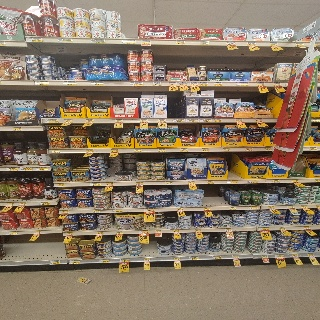All PRICE TAGS: (27, 37, 42, 41), (58, 38, 73, 42), (79, 277, 89, 283), (91, 39, 105, 43), (35, 81, 49, 85), (90, 81, 104, 85), (63, 81, 76, 85), (131, 81, 143, 85), (296, 42, 305, 47), (121, 40, 136, 43), (174, 118, 185, 122), (187, 118, 198, 122), (200, 118, 211, 122), (144, 208, 155, 212), (36, 166, 47, 170), (44, 119, 58, 122), (200, 41, 210, 45), (238, 82, 248, 86), (91, 182, 101, 186), (99, 259, 109, 263), (7, 231, 17, 235), (50, 260, 60, 264), (275, 254, 284, 258), (142, 40, 151, 44), (227, 41, 236, 45), (214, 82, 223, 86), (213, 118, 222, 122), (48, 150, 60, 153), (157, 148, 166, 152), (64, 231, 73, 235), (120, 258, 129, 262), (20, 167, 32, 170), (6, 168, 18, 171), (248, 180, 259, 183), (39, 202, 50, 205), (153, 82, 161, 86), (169, 82, 177, 86), (257, 82, 265, 86), (273, 82, 281, 86), (235, 118, 243, 122), (255, 118, 263, 122), (134, 148, 142, 152), (222, 147, 230, 151), (245, 147, 253, 151), (136, 181, 144, 185), (143, 257, 151, 261), (190, 256, 198, 260), (213, 255, 221, 259), (13, 127, 21, 131), (175, 41, 185, 44), (247, 42, 257, 45), (198, 82, 208, 85), (55, 183, 65, 186), (227, 180, 237, 183), (112, 209, 122, 212), (70, 260, 80, 263), (259, 227, 269, 230), (0, 41, 6, 46), (310, 147, 317, 151), (165, 181, 172, 185), (173, 229, 180, 233), (173, 256, 180, 260), (273, 179, 280, 183), (268, 205, 275, 209), (7, 202, 14, 206), (270, 42, 279, 45), (158, 119, 167, 122), (85, 149, 94, 152), (201, 148, 210, 151), (248, 206, 257, 209), (140, 230, 149, 233), (292, 253, 298, 257), (179, 82, 187, 85), (64, 119, 72, 122), (86, 119, 94, 122), (115, 119, 123, 122), (140, 119, 148, 122), (110, 149, 118, 152), (180, 148, 188, 151), (60, 209, 68, 212), (176, 207, 184, 210), (189, 82, 197, 85), (106, 182, 114, 185), (261, 255, 268, 258), (265, 147, 272, 150), (188, 181, 195, 184), (207, 180, 214, 183), (203, 207, 210, 210), (96, 231, 103, 234), (116, 231, 123, 234), (155, 230, 162, 233), (195, 229, 202, 232), (226, 228, 233, 231), (232, 255, 239, 258), (287, 205, 294, 208), (19, 202, 26, 205), (308, 253, 314, 256), (304, 226, 310, 229), (301, 205, 307, 208), (292, 179, 298, 182), (35, 231, 41, 234), (280, 227, 285, 230), (229, 207, 236, 209), (316, 205, 320, 208), (315, 179, 319, 182)
